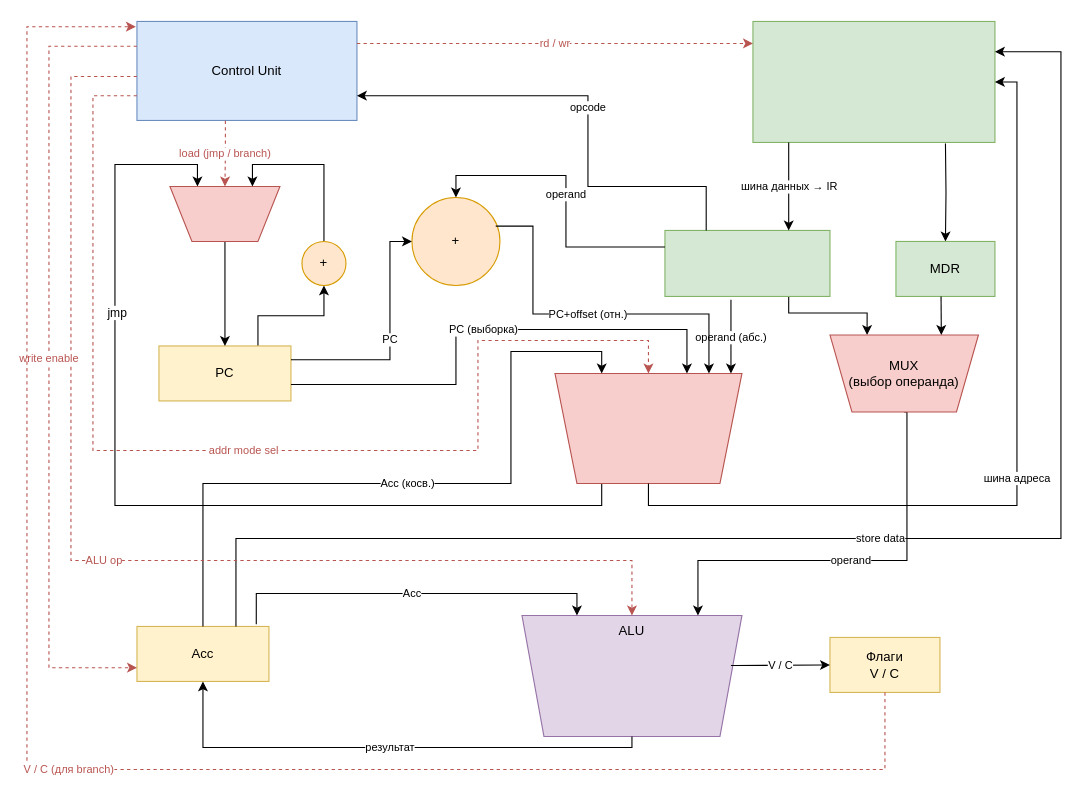
Some shapes in this 1089 by 799 pixel diagram are drawn without their labels. Each missing label, with the centre of its shape:
IR [ opcode | operand ]: the point at 747,262
Memory + MMIO IN = 0x80 OUT = 0x84: the point at 873,81
MUX (выбор адреса): the point at 648,427
PC MUX: the point at 224,213
